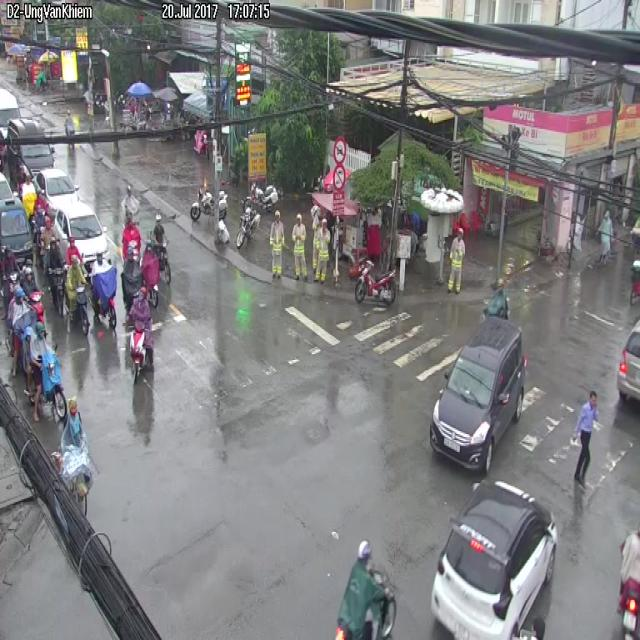traffic-light: (431, 481, 557, 639), (430, 319, 527, 473), (57, 203, 109, 271), (128, 287, 153, 379), (354, 259, 397, 305)
